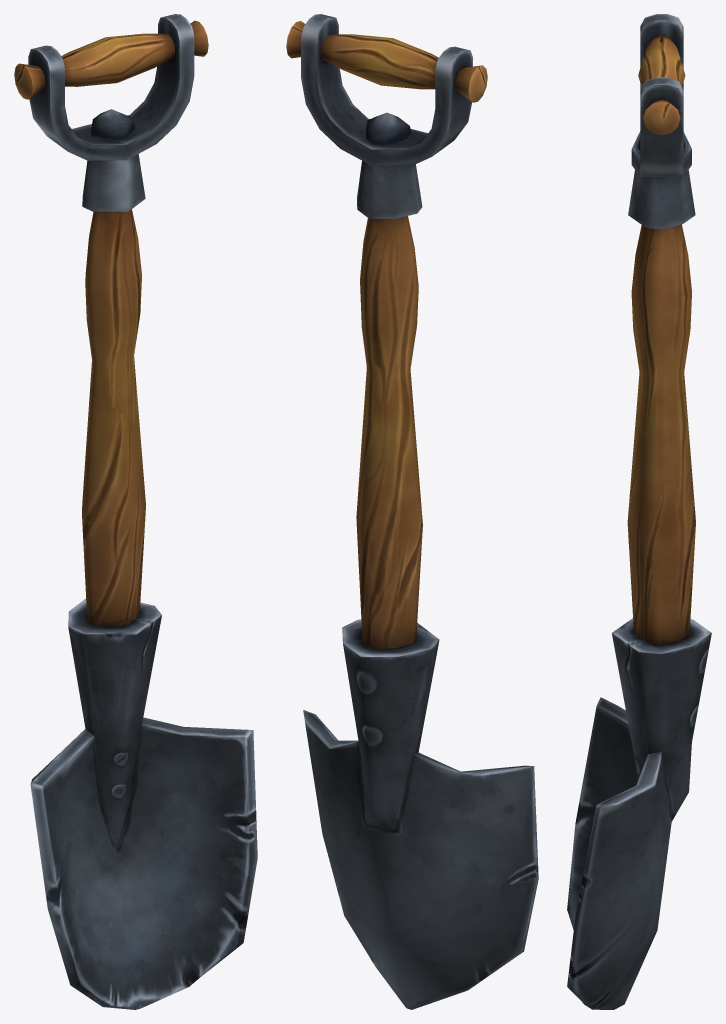
File: shovel.fbx
3 renders of one model, left to right at view 1: azimuth 30°, elevation 25°; view 2: azimuth 150°, elevation 25°; view 3: azimuth 270°, elevation 25°, orthographic. The views are drawn at different scales.
Parts seen in each view (by area): view 1: shovel; view 2: shovel; view 3: shovel.
Part boxes in pixels (x1=…): shovel: x1=14, y1=14, x2=257, y2=1009; shovel: x1=286, y1=14, x2=538, y2=1009; shovel: x1=567, y1=14, x2=711, y2=1009.
Size of the model in its own units: 29.86 by 123 by 16.75.
1 material, 1 textured.
